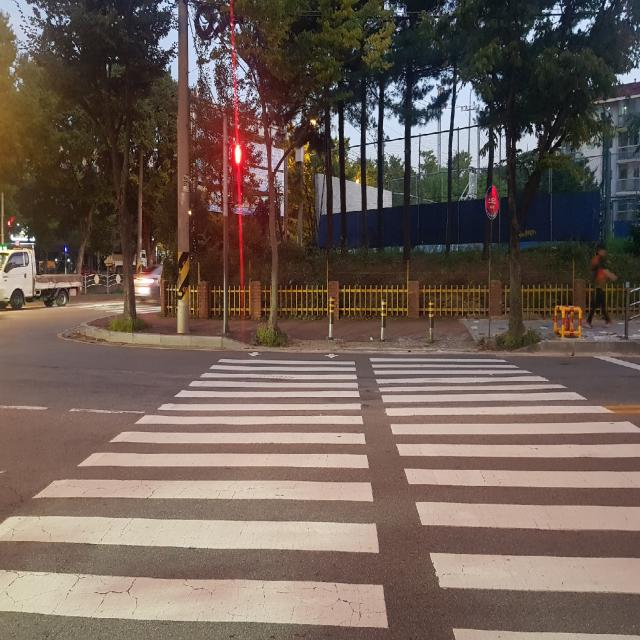빨간불: (232, 144, 244, 204)
횡단보도: (0, 349, 640, 639)
